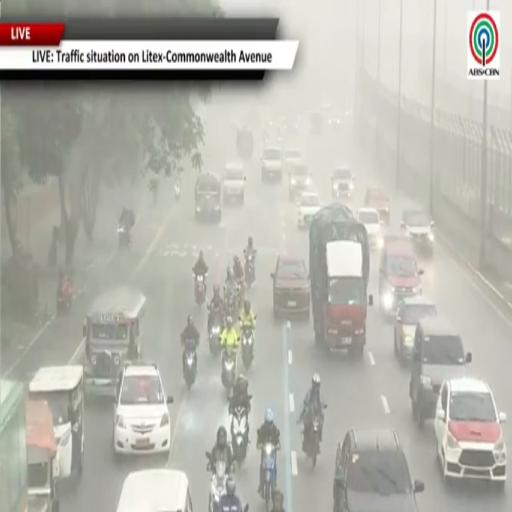bus: (0, 379, 28, 511)
car: (435, 378, 506, 489), (333, 428, 424, 511), (410, 316, 471, 427), (114, 361, 173, 455), (379, 236, 423, 315), (394, 296, 437, 361), (271, 254, 310, 318), (401, 210, 434, 257), (195, 172, 221, 222), (357, 207, 383, 249), (364, 187, 390, 225), (222, 162, 245, 204), (298, 191, 321, 229), (289, 162, 311, 201), (261, 146, 283, 182), (331, 166, 354, 198), (237, 126, 253, 161), (283, 148, 302, 172), (264, 121, 282, 146), (310, 111, 324, 135), (327, 111, 341, 127)
jeepney: (83, 287, 146, 396), (29, 365, 83, 478), (26, 400, 59, 511)
motorcycle: (206, 453, 227, 511), (302, 414, 322, 468), (262, 442, 277, 511), (231, 407, 248, 466), (222, 349, 236, 398), (209, 312, 223, 356), (183, 342, 196, 389), (242, 326, 254, 370), (57, 285, 73, 314), (224, 286, 237, 317), (194, 275, 207, 305), (245, 251, 255, 287), (118, 224, 131, 248), (236, 280, 244, 310), (152, 187, 158, 205), (174, 182, 180, 200)
truck: (309, 203, 372, 356)
